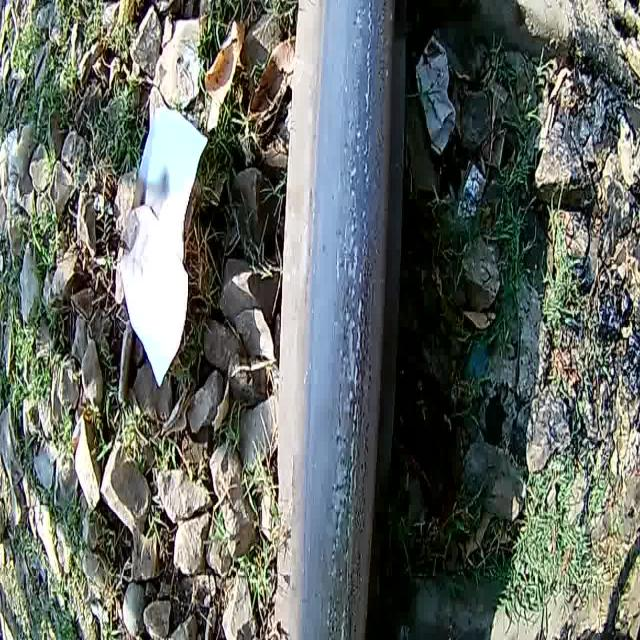Flakings: (317, 0, 390, 640)
